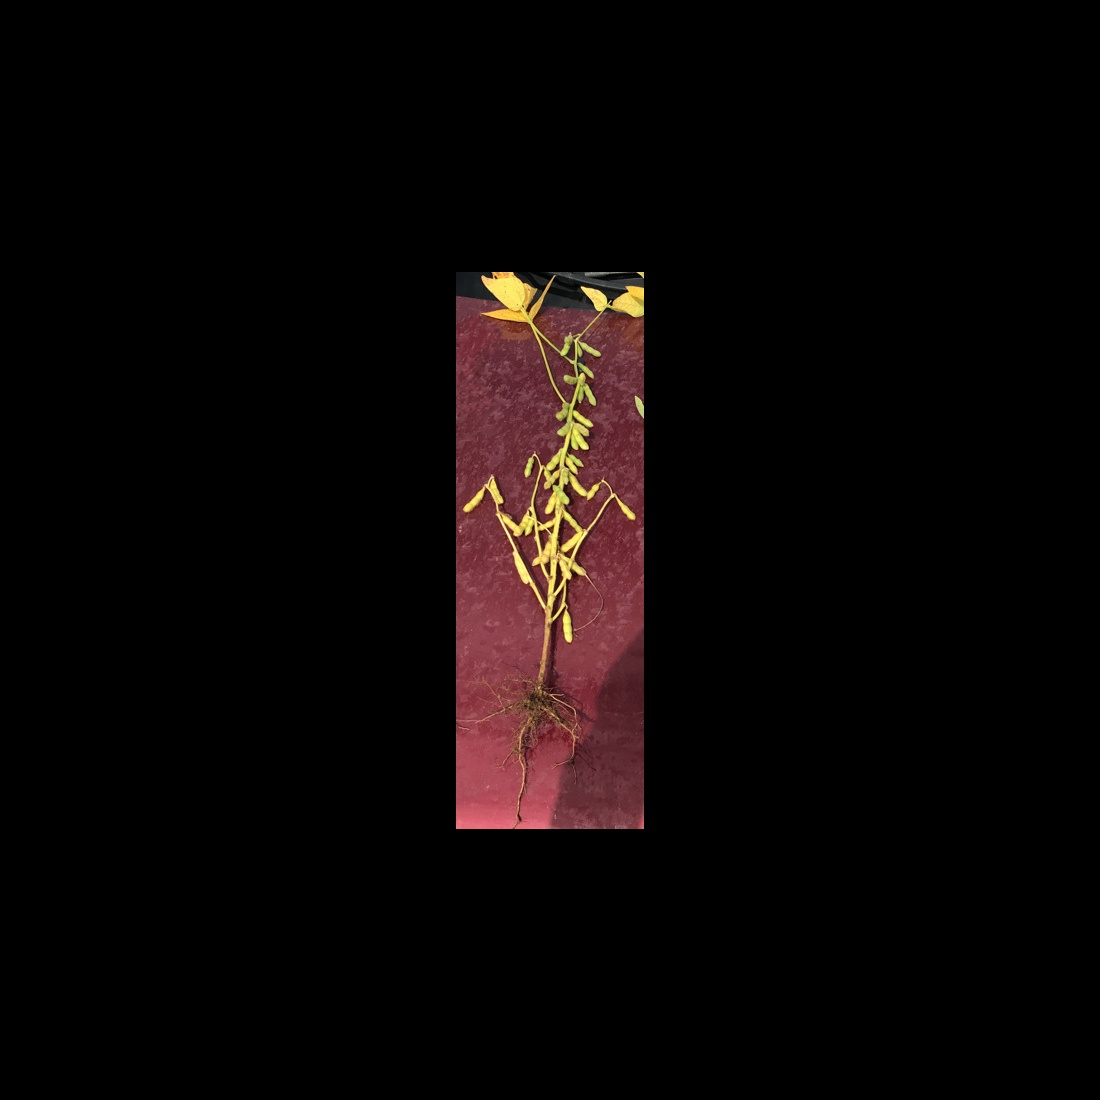pod: (463, 486, 486, 514), (500, 512, 524, 536), (577, 339, 603, 361), (488, 476, 506, 506), (558, 531, 581, 553), (562, 510, 583, 534), (616, 497, 637, 522), (560, 610, 575, 643), (512, 511, 529, 539), (572, 427, 590, 453), (582, 382, 598, 410), (571, 410, 593, 430), (543, 490, 559, 517), (570, 472, 587, 497), (577, 361, 596, 381), (533, 519, 560, 533), (544, 449, 561, 471), (584, 482, 603, 501), (522, 455, 534, 482), (562, 373, 581, 389)
soy: (462, 282, 636, 816)
